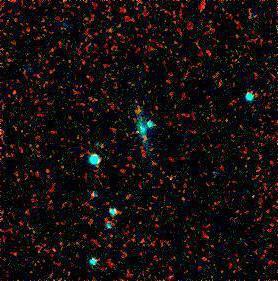star: (123, 98, 153, 128)
